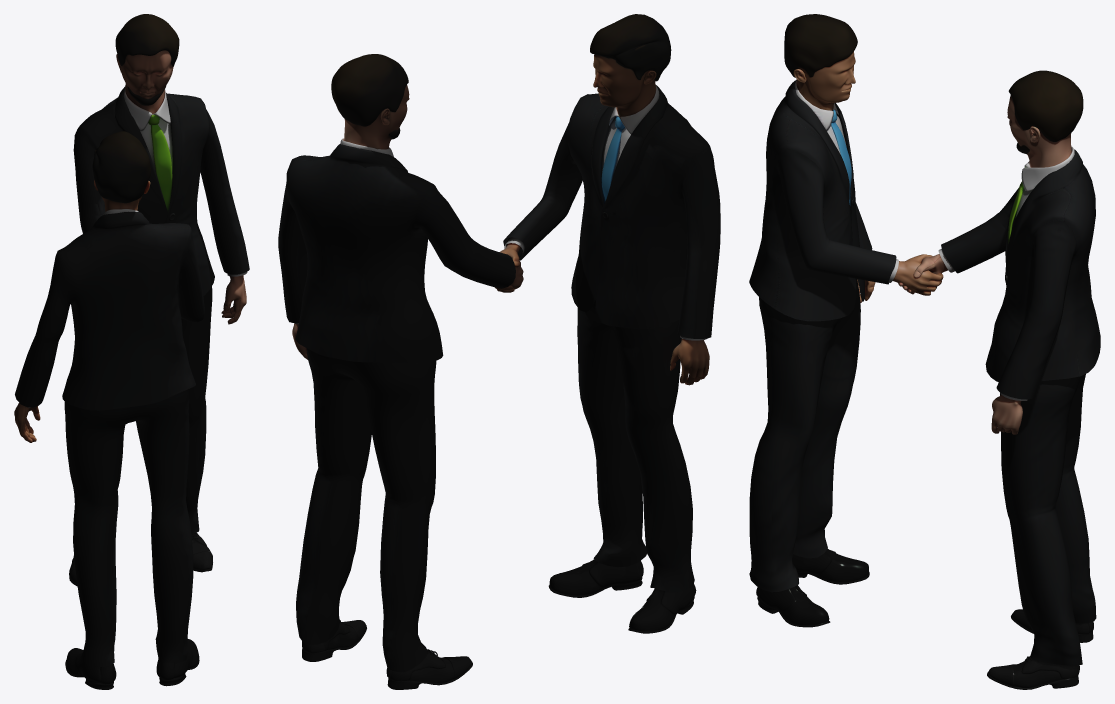
File: handshake-color.glb
3 renders of one model, left to right at view 1: azimuth 30°, elevation 25°; view 2: azimuth 150°, elevation 25°; view 3: azimuth 270°, elevation 25°, orthographic. The views are drawn at different scales.
Parts seen in each view (by area): view 1: Meeting 03 Man 109_Baked, Meeting 03 Man 108_Baked; view 2: Meeting 03 Man 108_Baked, Meeting 03 Man 109_Baked; view 3: Meeting 03 Man 109_Baked, Meeting 03 Man 108_Baked.
Boxes of the visible parts, left/top/right/bottom form: Meeting 03 Man 109_Baked: left=14, top=131, right=204, bottom=689; Meeting 03 Man 108_Baked: left=69, top=14, right=249, bottom=586; Meeting 03 Man 108_Baked: left=278, top=54, right=523, bottom=689; Meeting 03 Man 109_Baked: left=495, top=14, right=720, bottom=633; Meeting 03 Man 109_Baked: left=749, top=14, right=943, bottom=627; Meeting 03 Man 108_Baked: left=898, top=70, right=1100, bottom=689.
Size of the model in its own units: 0.9819 by 1.69 by 0.9134.
Materials: 2 (2 with a texture image).
